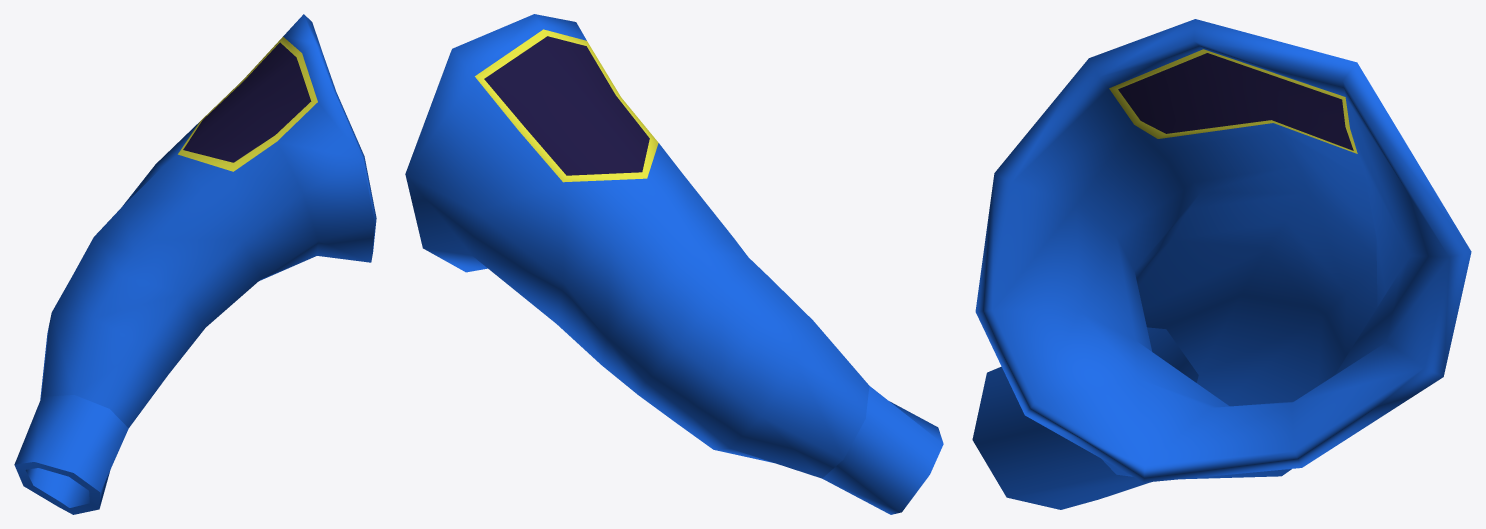
Rendered from рука.fbx.
3 views of the same model, side by side, from view 1: azimuth 30°, elevation 25°; view 2: azimuth 150°, elevation 25°; view 3: azimuth 270°, elevation 25° (orthographic). The views are drawn at different scales.
Visible parts, largest first — view 1: Shirt; view 2: Shirt; view 3: Shirt.
Boxes of the visible parts, x1,y1,x2,y2 form: Shirt: [14, 14, 376, 514]; Shirt: [405, 14, 943, 514]; Shirt: [972, 19, 1471, 509].
Bounding box in the file's own units: 37.59 × 37.5 × 22.34.
